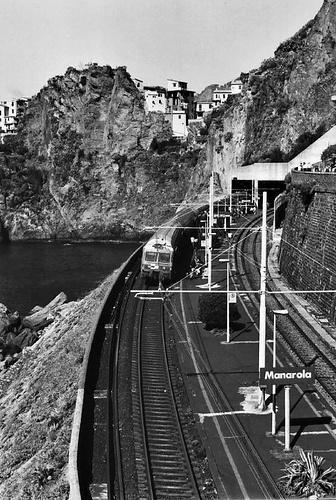train: (143, 191, 250, 281)
